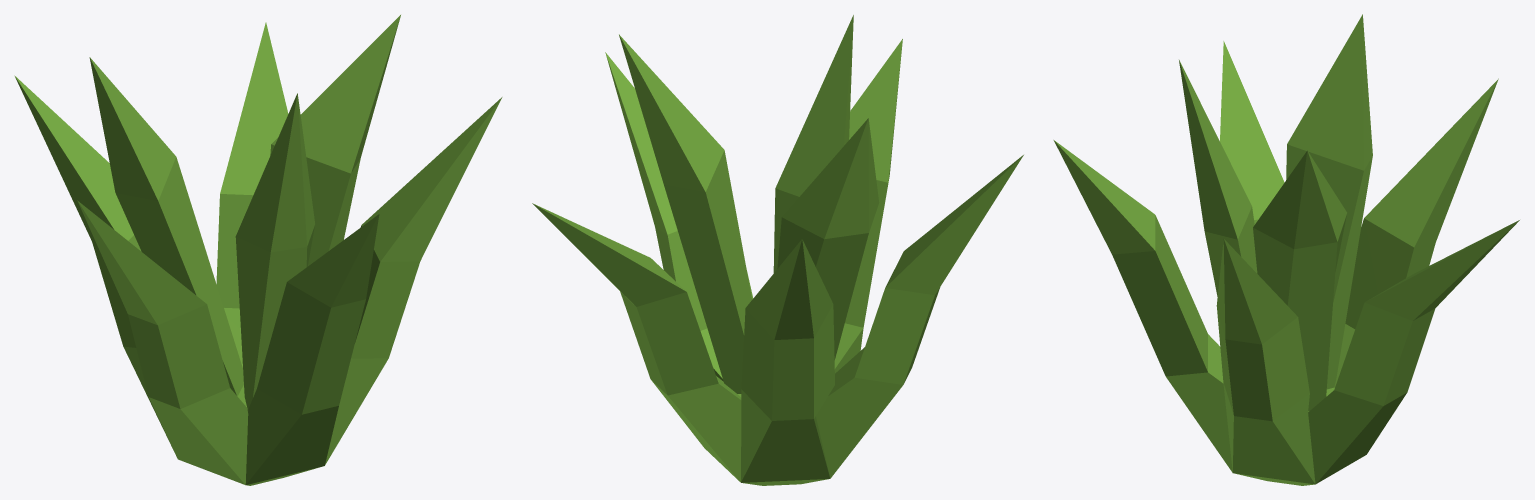
The model's file is aloe-vera.glb.
3 renders of one model, left to right at view 1: azimuth 30°, elevation 25°; view 2: azimuth 150°, elevation 25°; view 3: azimuth 270°, elevation 25°, orthographic. The views are drawn at different scales.
Parts seen in each view (by area): view 1: aloe-vera; view 2: aloe-vera; view 3: aloe-vera.
Boxes of the visible parts, x1,y1,x2,y2 form: aloe-vera: (14, 15, 502, 485); aloe-vera: (532, 15, 1023, 485); aloe-vera: (1053, 14, 1519, 485).
Bounding box in the file's own units: 0.3738 × 0.3585 × 0.3731.
